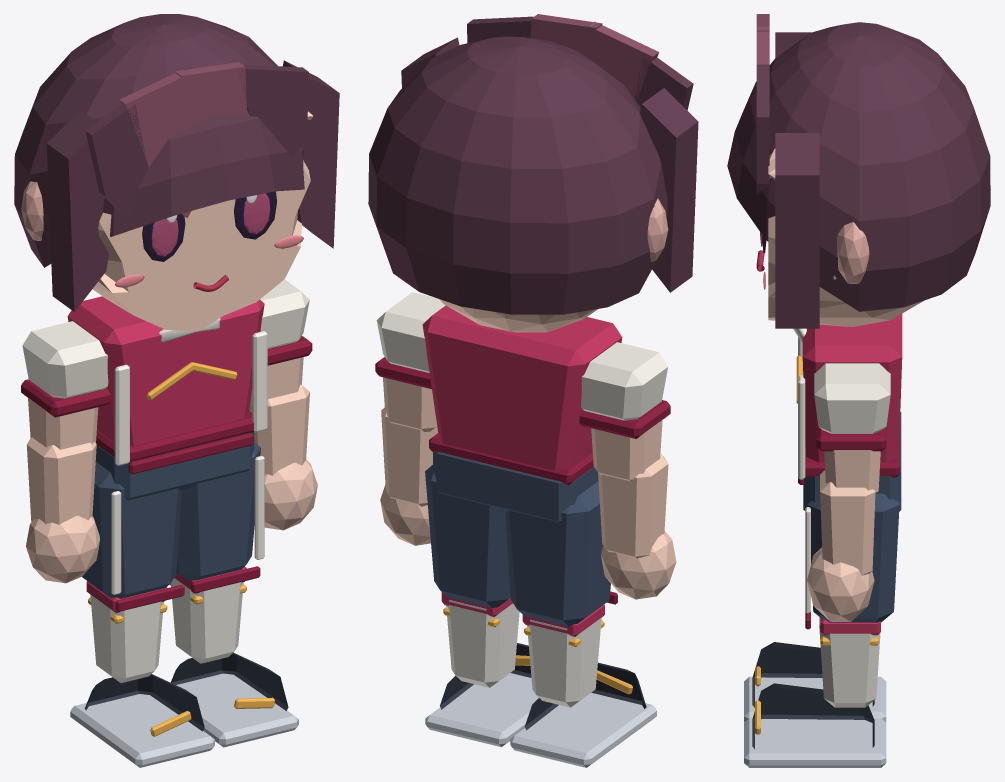
The model's file is chibi-master.glb.
3 renders of one model, left to right at view 1: azimuth 30°, elevation 25°; view 2: azimuth 150°, elevation 25°; view 3: azimuth 270°, elevation 25°, orthographic.
Visible parts, largest first — view 1: hair_cap, head_mesh, torso_mesh, hair_side_l, thigh_mesh_l, thigh_mesh_r, foot_mesh_l_sole, jersey_sleeve_l, hair_side_r, forearm_mesh_l, foot_mesh_r_sole, hair_bang_1 (+29 smaller); view 2: hair_cap, torso_mesh, thigh_mesh_l, thigh_mesh_r, hair_side_l, foot_mesh_l_sole, waist_mesh, jersey_sleeve_l, forearm_mesh_l, foot_mesh_r_sole, shin_mesh_l, shin_mesh_r (+19 smaller); view 3: hair_cap, hair_side_r, foot_mesh_r_sole, torso_mesh, jersey_sleeve_r, forearm_mesh_r, shin_mesh_r, thigh_mesh_r, hand_mesh_r, foot_mesh_r, head_mesh, foot_mesh_l (+12 smaller).
Boxes of the visible parts, bbox=[...] form: hair_cap: bbox=[14, 14, 304, 267]; head_mesh: bbox=[92, 111, 313, 331]; torso_mesh: bbox=[67, 296, 264, 445]; hair_side_l: bbox=[46, 110, 108, 311]; thigh_mesh_l: bbox=[82, 462, 181, 598]; thigh_mesh_r: bbox=[176, 442, 260, 581]; foot_mesh_l_sole: bbox=[70, 694, 214, 767]; jersey_sleeve_l: bbox=[22, 321, 108, 398]; hair_side_r: bbox=[283, 60, 339, 248]; forearm_mesh_l: bbox=[26, 437, 96, 524]; foot_mesh_r_sole: bbox=[170, 673, 298, 747]; hair_bang_1: bbox=[85, 104, 148, 222]; hair_cap: bbox=[368, 36, 667, 314]; torso_mesh: bbox=[422, 305, 622, 470]; thigh_mesh_l: bbox=[505, 481, 610, 626]; thigh_mesh_r: bbox=[425, 465, 510, 607]; hair_side_l: bbox=[639, 88, 698, 292]; foot_mesh_l_sole: bbox=[510, 692, 656, 767]; waist_mesh: bbox=[433, 452, 598, 522]; jersey_sleeve_l: bbox=[581, 342, 667, 420]; forearm_mesh_l: bbox=[598, 453, 668, 558]; foot_mesh_r_sole: bbox=[425, 673, 538, 746]; shin_mesh_l: bbox=[527, 617, 601, 707]; shin_mesh_r: bbox=[446, 600, 519, 687]; hair_cap: bbox=[727, 22, 990, 311]; hair_side_r: bbox=[775, 133, 819, 328]; foot_mesh_r_sole: bbox=[744, 718, 886, 767]; torso_mesh: bbox=[802, 314, 902, 462]; jersey_sleeve_r: bbox=[814, 363, 890, 433]; forearm_mesh_r: bbox=[820, 470, 875, 575]; shin_mesh_r: bbox=[819, 617, 880, 707]; thigh_mesh_r: bbox=[807, 493, 899, 622]; hand_mesh_r: bbox=[807, 547, 874, 621]; foot_mesh_r: bbox=[752, 683, 874, 748]; head_mesh: bbox=[768, 148, 923, 326]; foot_mesh_l: bbox=[752, 642, 874, 707].
Bounding box in the file's own units: 1.42 × 3.28 × 1.13.
